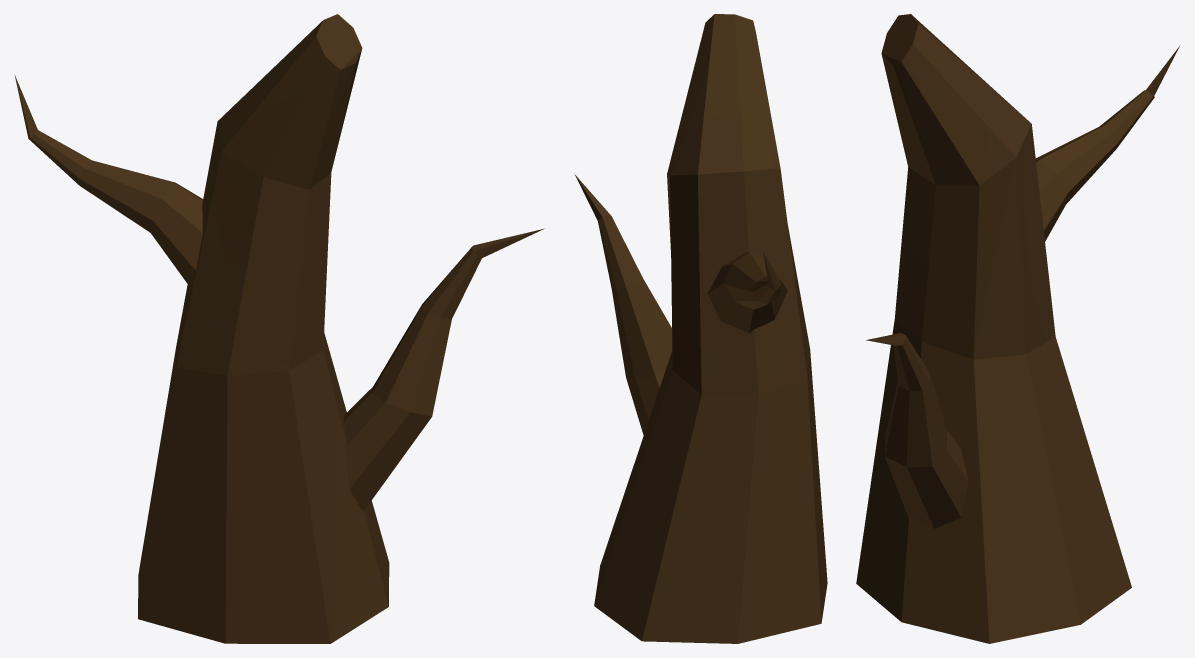
Rendered from Tree_Dead.fbx.
3 renders of one model, left to right at view 1: azimuth 30°, elevation 25°; view 2: azimuth 150°, elevation 25°; view 3: azimuth 270°, elevation 25°, orthographic. The views are drawn at different scales.
Visible parts, largest first — view 1: Tree_Dead; view 2: Tree_Dead; view 3: Tree_Dead.
Part boxes in pixels (bbox=[...]): Tree_Dead: bbox=[14, 14, 544, 643]; Tree_Dead: bbox=[575, 14, 827, 643]; Tree_Dead: bbox=[856, 14, 1179, 643].
Bounding box in the file's own units: 3.65 × 5.62 × 2.85.
